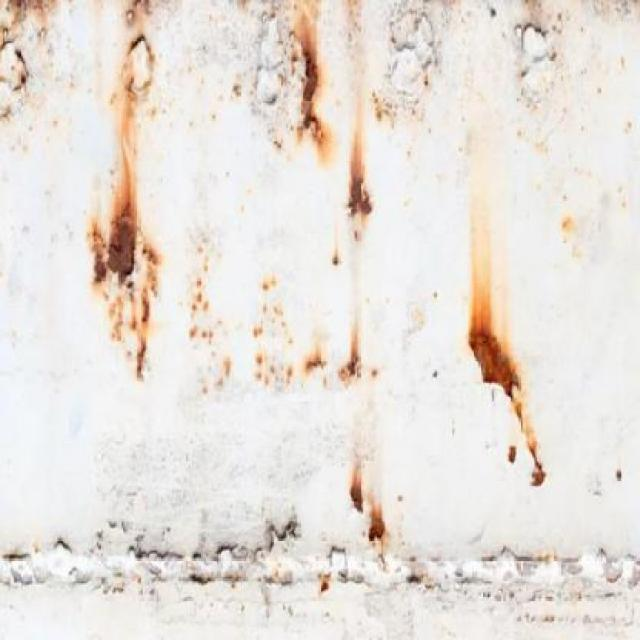Corrosion: (92, 235, 174, 386), (180, 257, 241, 386), (254, 268, 295, 394), (116, 0, 164, 100), (468, 332, 520, 400), (0, 23, 34, 124), (95, 218, 138, 286), (299, 40, 320, 129), (345, 340, 379, 384), (524, 442, 550, 491), (350, 178, 372, 216), (0, 0, 67, 12), (367, 511, 388, 542), (303, 349, 332, 368), (349, 484, 364, 512), (317, 571, 334, 594), (505, 443, 520, 468), (327, 252, 347, 264)
